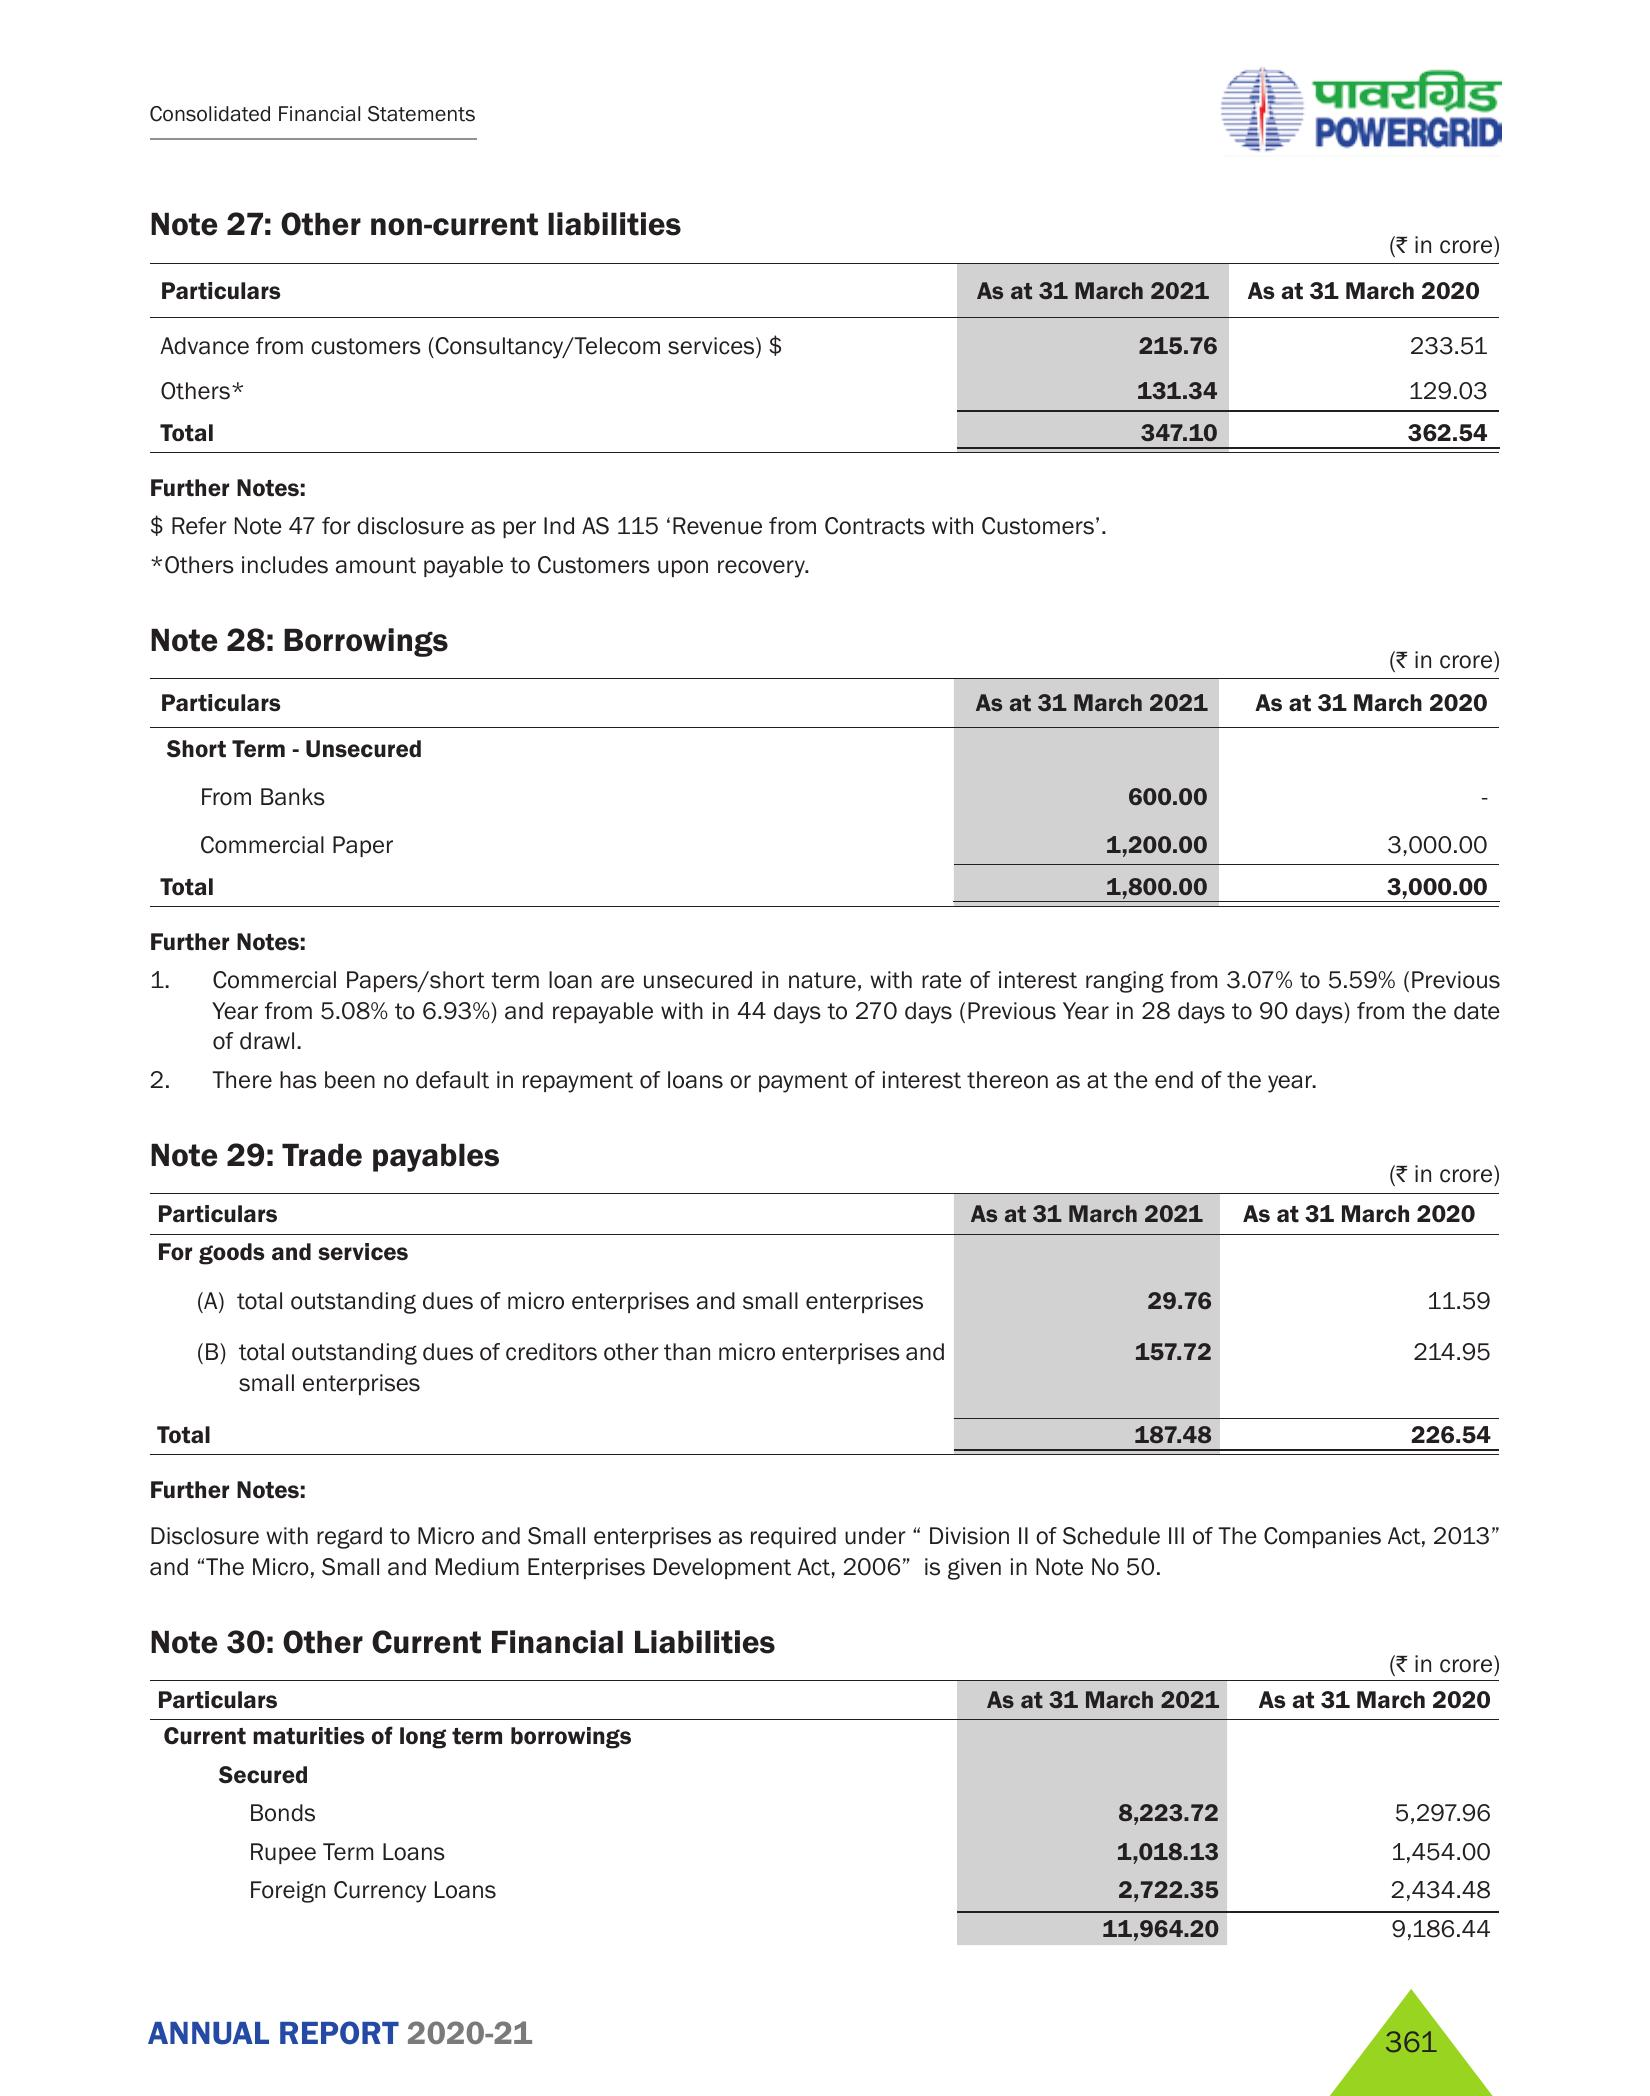Footer: (0, 1965, 1650, 2096)
Header: (0, 0, 1650, 163)
Table: (111, 1676, 1516, 1950), (122, 1193, 1516, 1455), (117, 670, 1511, 907), (111, 260, 1499, 449)
